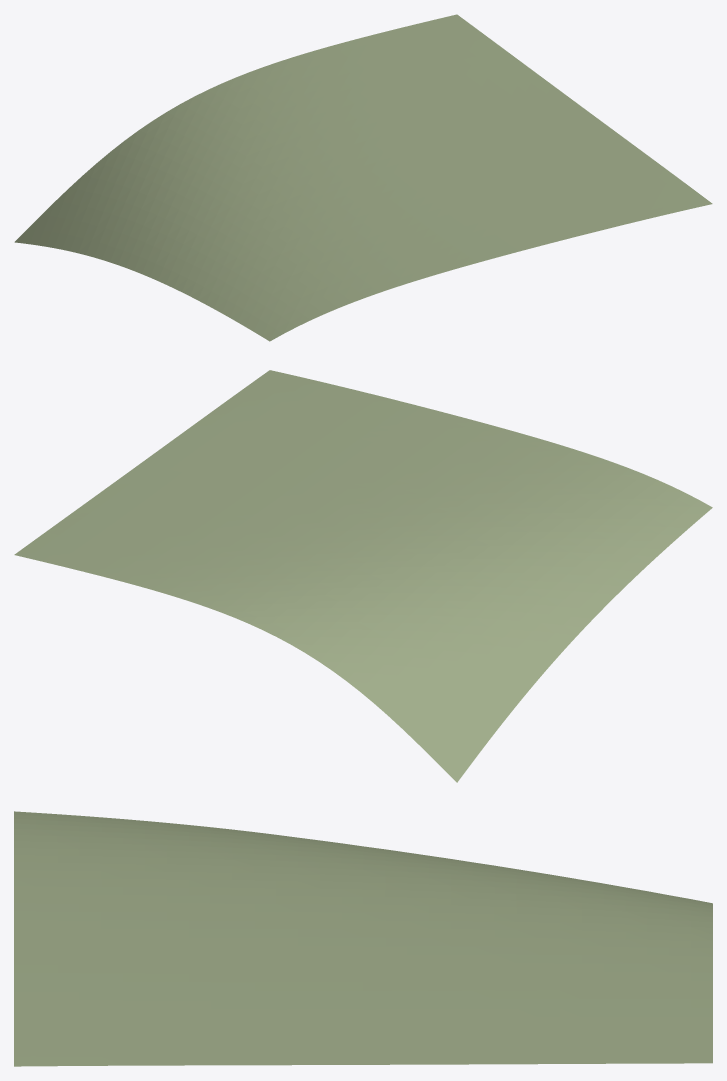
The model's file is expanse-12-17.glb.
The picture shows the model from 3 angles, top to bottom: view 1: azimuth 30°, elevation 25°; view 2: azimuth 150°, elevation 25°; view 3: azimuth 270°, elevation 25°; orthographic projection. The views are drawn at different scales.
Parts seen in each view (by area): view 1: expanse-12-17; view 2: expanse-12-17; view 3: expanse-12-17.
Boxes of the visible parts, x1=… form: expanse-12-17: x1=14, y1=14, x2=712, y2=341; expanse-12-17: x1=14, y1=370, x2=712, y2=782; expanse-12-17: x1=14, y1=811, x2=712, y2=1066.
Size of the model in its own units: 256 by 66.3 by 256.
